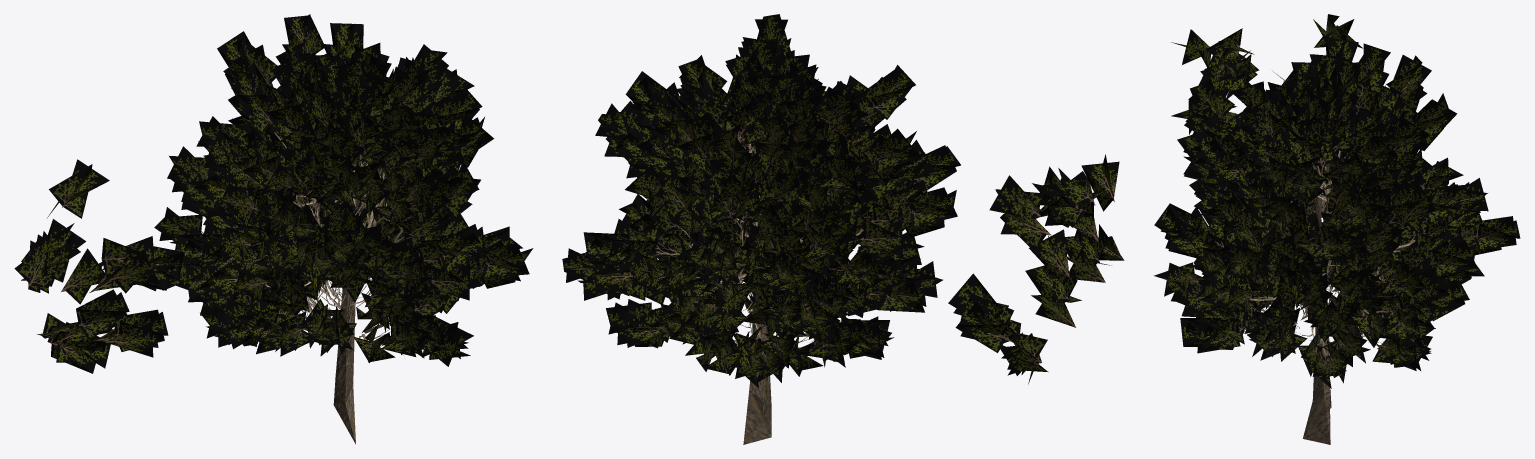
File: leaf3.glb
3 views of the same model, side by side, from view 1: azimuth 30°, elevation 25°; view 2: azimuth 150°, elevation 25°; view 3: azimuth 270°, elevation 25° (orthographic). The views are drawn at different scales.
Visible parts, largest first — view 1: Model__Leaf, Model__Bark, Model__Branch; view 2: Model__Leaf, Model__Bark, Model__Branch; view 3: Model__Leaf, Model__Bark, Model__Branch.
Boxes of the visible parts, x1=… form: Model__Leaf: x1=14, y1=14, x2=533, y2=373; Model__Bark: x1=321, y1=163, x2=389, y2=444; Model__Branch: x1=201, y1=44, x2=494, y2=340; Model__Leaf: x1=562, y1=14, x2=1124, y2=388; Model__Bark: x1=743, y1=147, x2=809, y2=444; Model__Branch: x1=655, y1=94, x2=1092, y2=354; Model__Leaf: x1=1154, y1=14, x2=1520, y2=388; Model__Bark: x1=1291, y1=194, x2=1338, y2=444; Model__Branch: x1=1197, y1=43, x2=1485, y2=360.
Size of the model in its own units: 6.88 by 5.5 by 4.93.
Materials: 3 (3 with a texture image).
